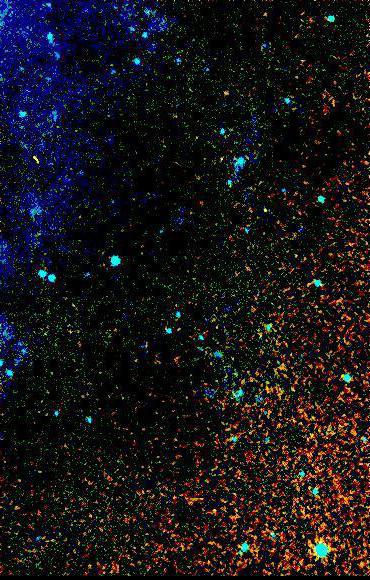star: (210, 79, 240, 109)
